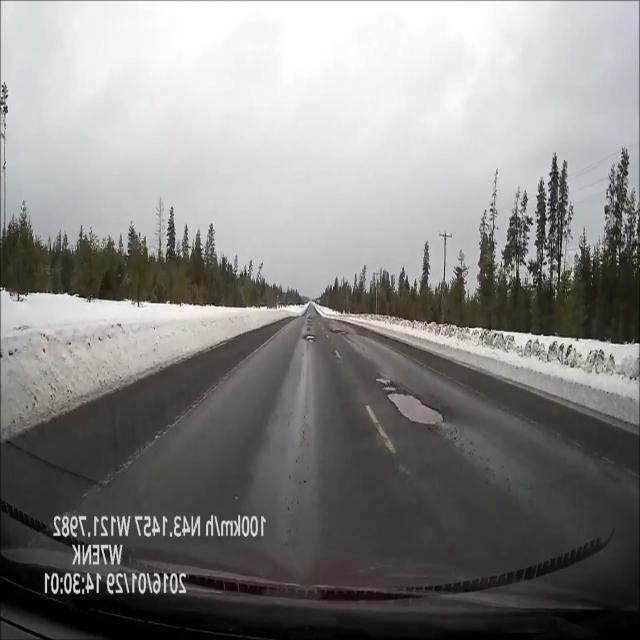pothole: (365, 371, 452, 433), (297, 317, 317, 350)
